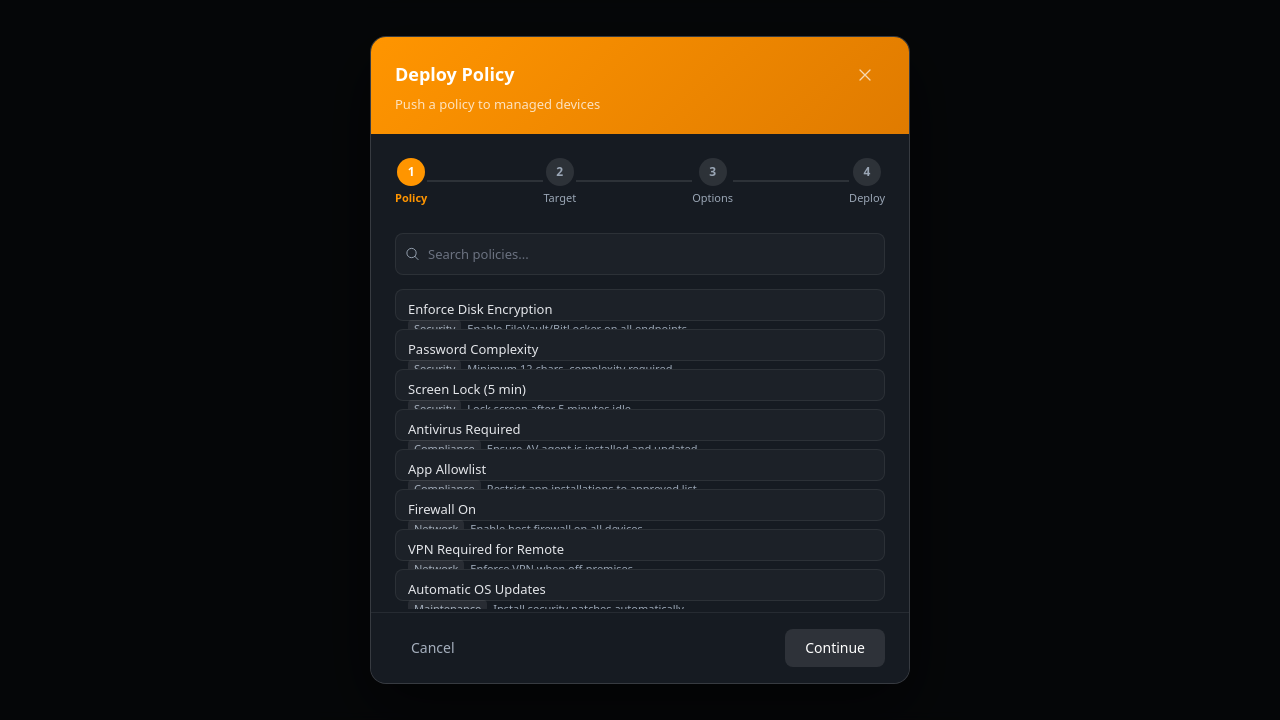
Test case: PolicyDeployWizard › step 2 shows all target type options
The width and height of the screenshot is (1280, 720).
Step 1. Click the text "Password Complexity" → (473, 349), box [408,340,538,358]
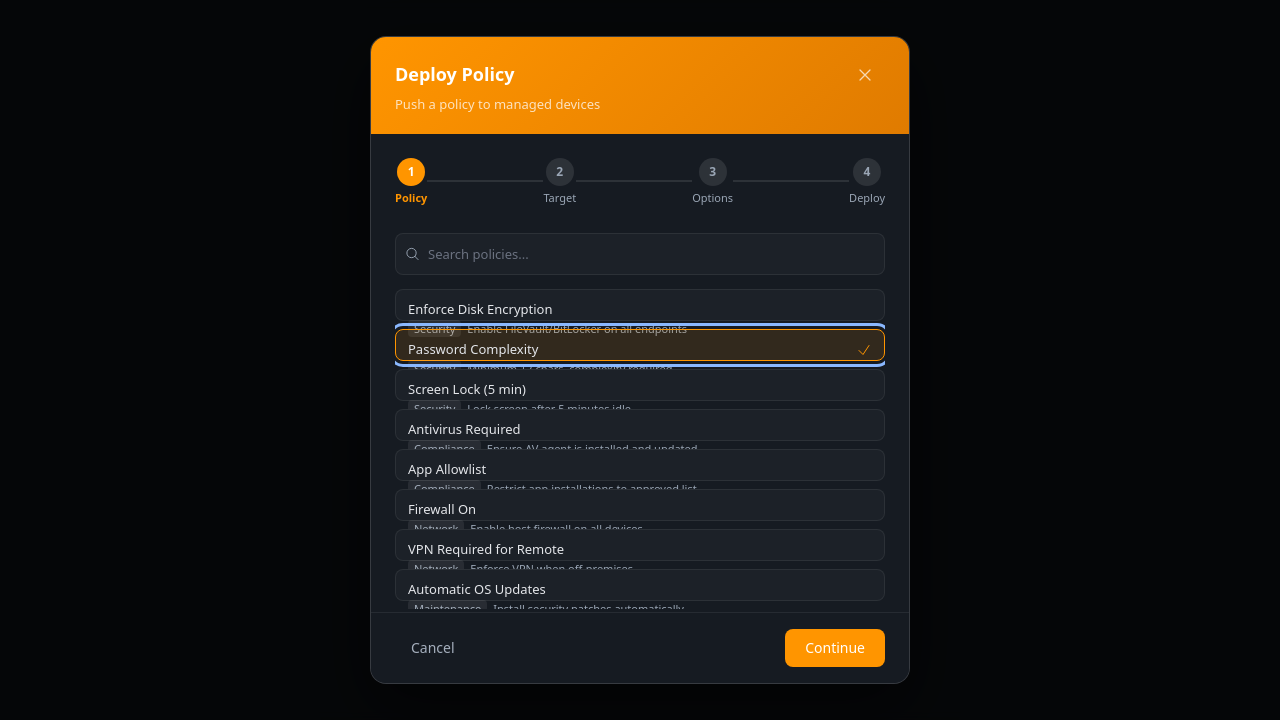
Step 2. Click the button "Continue" → (835, 648), box [785,629,885,667]
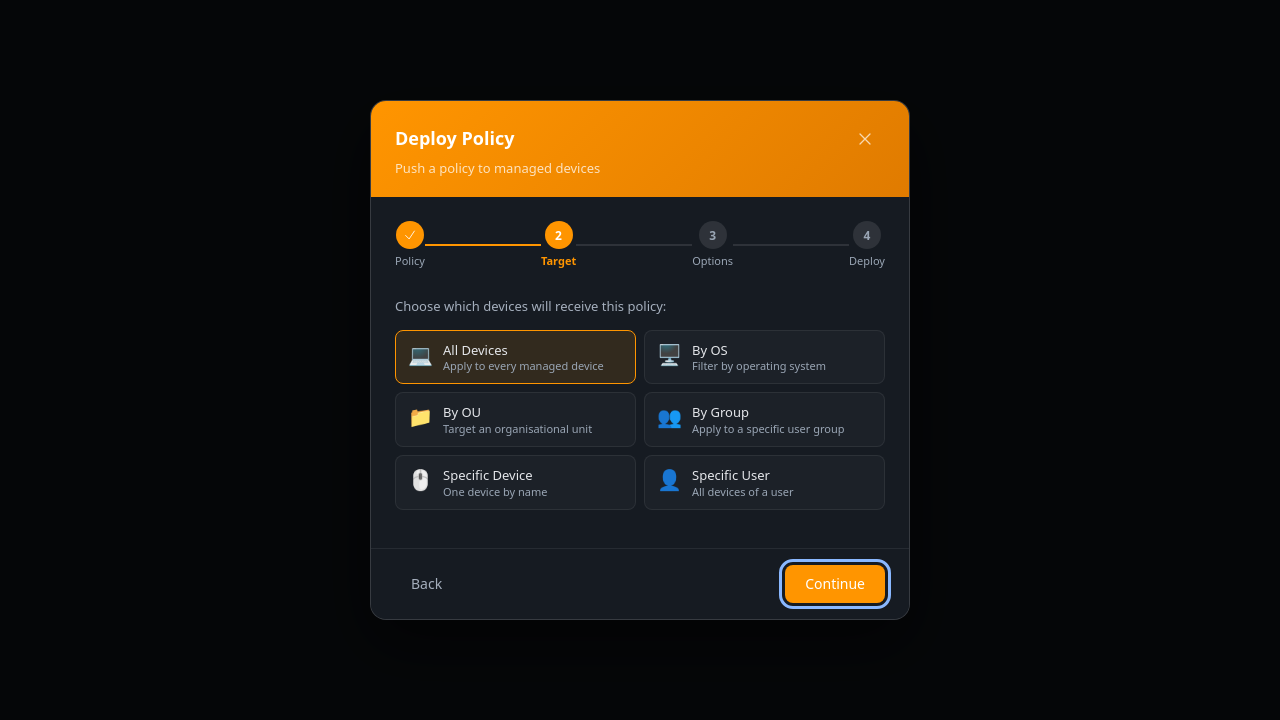
expect the text "All Devices" is shown: met, box [443,341,508,359]
expect the text "By OS" is shown: met, box [692,341,728,359]
expect the text "By OU" is shown: met, box [443,404,481,422]
